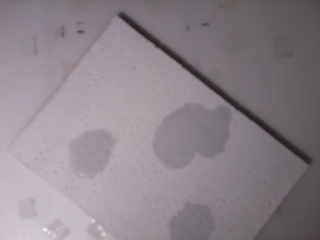Water_detected: (158, 101, 224, 162), (77, 133, 115, 174), (175, 198, 200, 229)
